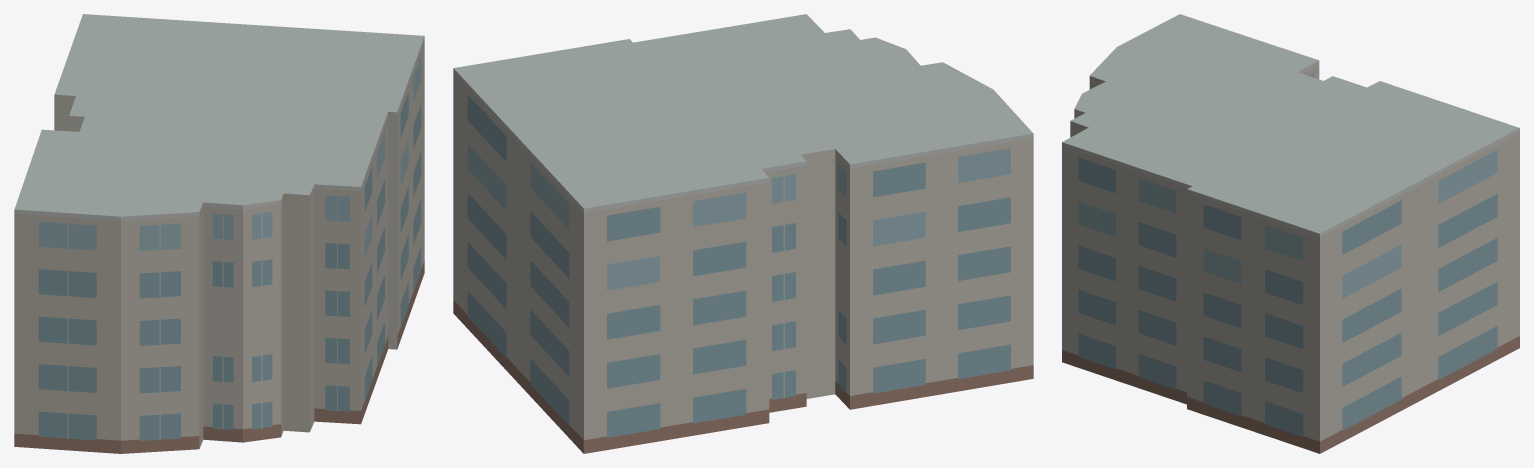
The model's file is survey-upis-32910592.glb.
3 views of the same model, side by side, from view 1: azimuth 30°, elevation 25°; view 2: azimuth 150°, elevation 25°; view 3: azimuth 270°, elevation 25° (orthographic). The views are drawn at different scales.
Visible parts, largest first — view 1: survey-upis-32910592.tmp; view 2: survey-upis-32910592.tmp; view 3: survey-upis-32910592.tmp.
Boxes of the visible parts, bbox=[...] form: survey-upis-32910592.tmp: bbox=[14, 14, 424, 453]; survey-upis-32910592.tmp: bbox=[453, 14, 1033, 453]; survey-upis-32910592.tmp: bbox=[1062, 14, 1519, 453].
Size of the model in its own units: 28.92 by 13.5 by 25.45.
